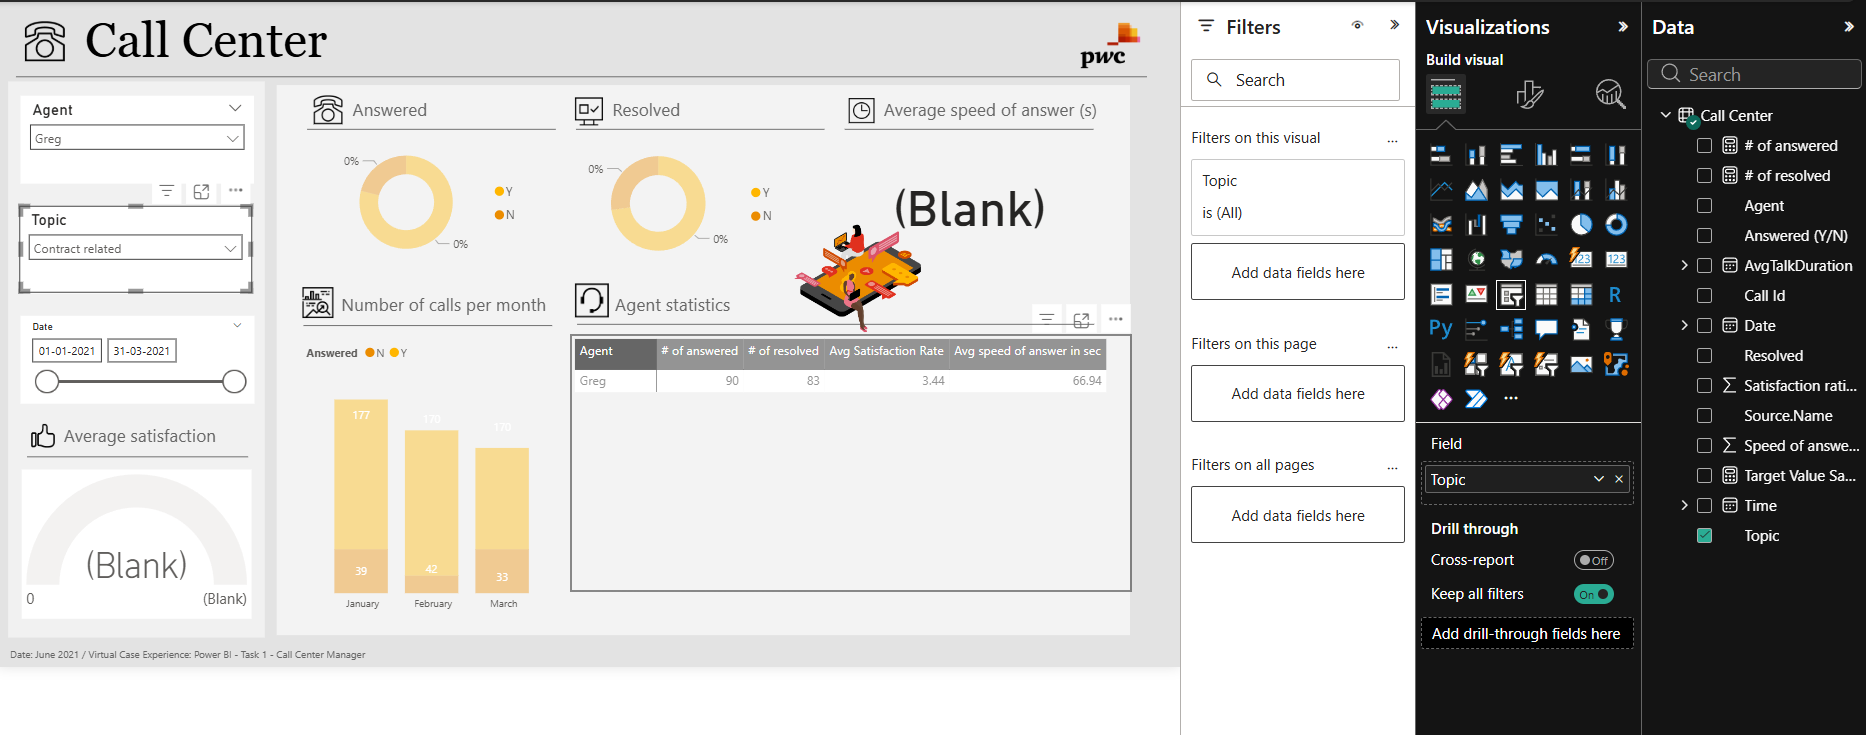

This screenshot's page, from the dashboard's own definition file:
{"tool":"powerbi","page":{"name":"Call Center Manager","canvas":[1280,720],"ordinal":0},"visuals":[{"type":"textbox","box":[89.7,4.8,1172,75.2],"z":0},{"type":"basicShape","box":[9,61,1244.3,40.1],"z":1000},{"type":"basicShape","box":[8.7,80.1,283.6,614.4],"z":2000},{"type":"basicShape","box":[292.6,83.8,942.7,607.6],"z":3000},{"type":"image","box":[1129,0,151,94.5],"z":4000},{"type":"image","box":[24.1,7.7,53.1,68.5],"z":5000},{"type":"columnChart","fields":{"Category":["Call Center.Date.Variation.Date Hierarchy.Month"],"Y":["CountNonNull(Call Center.Call Id)"],"Series":["Call Center.Answered (Y/N)"]},"box":[329.5,359.7,284.8,308.3],"z":6000},{"type":"slicer","fields":{"Values":["Call Center.Date"]},"box":[24.6,339.5,252.4,94.9],"z":7000},{"type":"pivotTable","fields":{"Rows":["Call Center.Agent"],"Values":["Call Center.# of answered","Call Center.# of resolved","Avg(Call Center.Satisfaction rating)","Avg(Call Center.Speed of answer in seconds)"]},"box":[619.9,359.7,607.6,279.2],"z":8000},{"type":"slicer","fields":{"Values":["Call Center.Agent"]},"box":[24.6,101.6,252.4,95],"z":9000},{"type":"slicer","fields":{"Values":["Call Center.Topic"]},"box":[23.5,220.6,251.3,94.9],"z":10000},{"type":"donutChart","fields":{"Category":["Call Center.Resolved"],"Y":["CountNonNull(Call Center.Resolved)"]},"box":[611,143,242.4,149.7],"z":11000},{"type":"gauge","fields":{"Y":["Avg(Call Center.Satisfaction rating)"],"MaxValue":["Max(Call Center.Satisfaction rating)"],"TargetValue":["Call Center.Target Value Satisfaction"]},"box":[25.7,506,249.1,162],"z":12000},{"type":"image","box":[31.1,452.4,35.7,35.7],"z":13000},{"type":"textbox","box":[66.8,452.4,188.1,35.7],"z":14000},{"type":"basicShape","box":[21.2,472.5,259.1,40.2],"z":15000},{"type":"donutChart","fields":{"Category":["Call Center.Answered (Y/N)"],"Y":["CountNonNull(Call Center.Answered (Y/N))"]},"box":[341.8,141.8,232.3,149.7],"z":16000},{"type":"textbox","box":[378.6,98.3,172,35.7],"z":17000},{"type":"textbox","box":[660.1,98.3,183.2,35.7],"z":18000},{"type":"card","fields":{"Values":["Avg(Call Center.Speed of answer in seconds)"]},"box":[953.9,148.6,196.6,136.3],"z":19000},{"type":"basicShape","box":[906.9,118.4,289.3,40.2],"z":20000},{"type":"textbox","box":[953.9,98.3,250.2,35.7],"z":21000},{"type":"basicShape","box":[325,118.4,289,40.2],"z":22000},{"type":"basicShape","box":[616,118.4,289,40.2],"z":23000},{"type":"image","box":[915.9,88.2,38,59.2],"z":24000},{"type":"image","box":[337.3,94.9,41.3,43.6],"z":25000},{"type":"image","box":[619.9,88.2,40.2,61.4],"z":26000},{"type":"textbox","box":[367.4,310.5,250.2,35.7],"z":27000},{"type":"basicShape","box":[320.5,330.6,289.3,40.2],"z":28000},{"type":"textbox","box":[663.4,309.3,250.2,35.7],"z":29000},{"type":"basicShape","box":[616.5,329.5,579.7,40.2],"z":30000},{"type":"image","box":[619.9,294.9,46.9,55.8],"z":31000},{"type":"image","box":[325,290.4,43.6,69.2],"z":32000},{"type":"image","box":[800.6,197.7,278.8,187.1],"z":33000},{"type":"textbox","box":[7.7,691.6,403.2,28],"z":34000}]}

Visuals, with their boxes on the page's 1280x720 design canvas (x1, y1, x2, y2). These are canvas units, not pixel positions in the 1866x735 screenshot, which may show the page scaled, cropped or inside an application window:
textbox: {"x1": 90, "y1": 5, "x2": 1262, "y2": 80}
basicShape: {"x1": 9, "y1": 61, "x2": 1253, "y2": 101}
basicShape: {"x1": 9, "y1": 80, "x2": 292, "y2": 694}
basicShape: {"x1": 293, "y1": 84, "x2": 1235, "y2": 691}
image: {"x1": 1129, "y1": 0, "x2": 1280, "y2": 94}
image: {"x1": 24, "y1": 8, "x2": 77, "y2": 76}
columnChart - Call Center.Date.Variation.Date Hierarchy.Month x CountNonNull(Call Center.Call Id): {"x1": 330, "y1": 360, "x2": 614, "y2": 668}
slicer - Call Center.Date: {"x1": 25, "y1": 340, "x2": 277, "y2": 434}
pivotTable - Call Center.Agent x Call Center.# of answered: {"x1": 620, "y1": 360, "x2": 1228, "y2": 639}
slicer - Call Center.Agent: {"x1": 25, "y1": 102, "x2": 277, "y2": 197}
slicer - Call Center.Topic: {"x1": 24, "y1": 221, "x2": 275, "y2": 316}
donutChart - Call Center.Resolved x CountNonNull(Call Center.Resolved): {"x1": 611, "y1": 143, "x2": 853, "y2": 293}
gauge - Avg(Call Center.Satisfaction rating) x Max(Call Center.Satisfaction rating): {"x1": 26, "y1": 506, "x2": 275, "y2": 668}
image: {"x1": 31, "y1": 452, "x2": 67, "y2": 488}
textbox: {"x1": 67, "y1": 452, "x2": 255, "y2": 488}
basicShape: {"x1": 21, "y1": 472, "x2": 280, "y2": 513}
donutChart - Call Center.Answered (Y/N) x CountNonNull(Call Center.Answered (Y/N)): {"x1": 342, "y1": 142, "x2": 574, "y2": 292}
textbox: {"x1": 379, "y1": 98, "x2": 551, "y2": 134}
textbox: {"x1": 660, "y1": 98, "x2": 843, "y2": 134}
card - Avg(Call Center.Speed of answer in seconds): {"x1": 954, "y1": 149, "x2": 1150, "y2": 285}
basicShape: {"x1": 907, "y1": 118, "x2": 1196, "y2": 159}
textbox: {"x1": 954, "y1": 98, "x2": 1204, "y2": 134}
basicShape: {"x1": 325, "y1": 118, "x2": 614, "y2": 159}
basicShape: {"x1": 616, "y1": 118, "x2": 905, "y2": 159}
image: {"x1": 916, "y1": 88, "x2": 954, "y2": 147}
image: {"x1": 337, "y1": 95, "x2": 379, "y2": 138}
image: {"x1": 620, "y1": 88, "x2": 660, "y2": 150}
textbox: {"x1": 367, "y1": 310, "x2": 618, "y2": 346}
basicShape: {"x1": 320, "y1": 331, "x2": 610, "y2": 371}
textbox: {"x1": 663, "y1": 309, "x2": 914, "y2": 345}
basicShape: {"x1": 616, "y1": 330, "x2": 1196, "y2": 370}
image: {"x1": 620, "y1": 295, "x2": 667, "y2": 351}
image: {"x1": 325, "y1": 290, "x2": 369, "y2": 360}
image: {"x1": 801, "y1": 198, "x2": 1079, "y2": 385}
textbox: {"x1": 8, "y1": 692, "x2": 411, "y2": 720}
